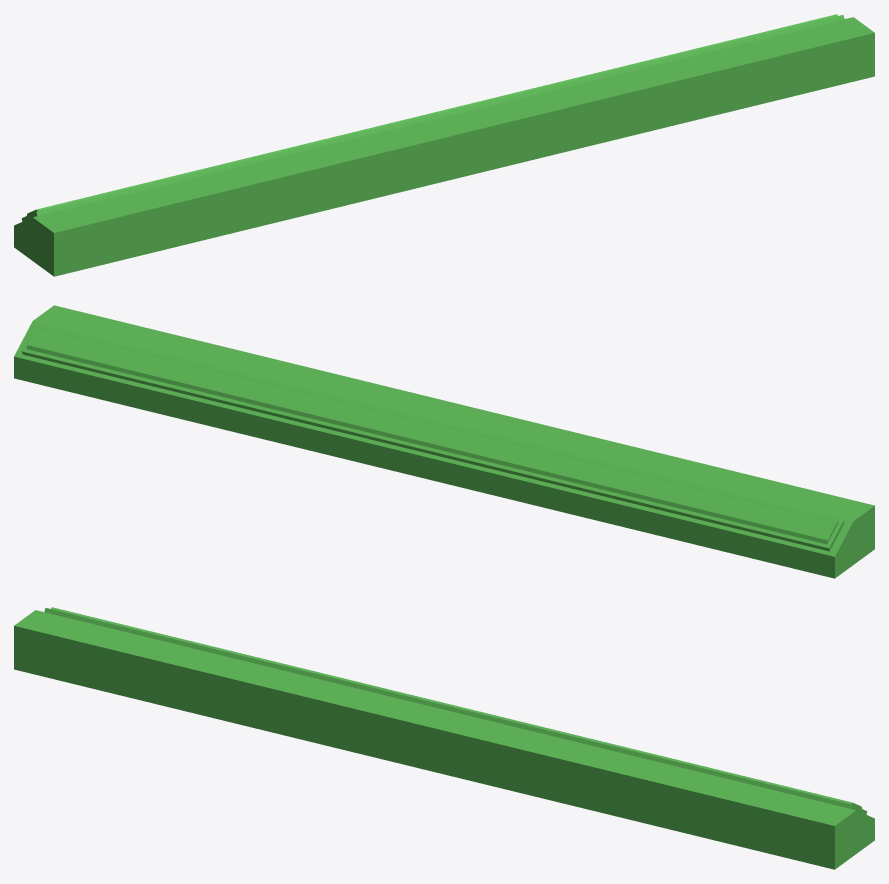
Rendered from zeminkenaruzun.fbx.
The picture shows the model from 3 angles, top to bottom: view 1: azimuth 30°, elevation 25°; view 2: azimuth 150°, elevation 25°; view 3: azimuth 330°, elevation 25°; orthographic projection.
Parts seen in each view (by area): view 1: Cube.014; view 2: Cube.014; view 3: Cube.014.
Part boxes in pixels (left/top/right/bottom): Cube.014: left=14, top=14, right=874, bottom=276; Cube.014: left=14, top=305, right=874, bottom=578; Cube.014: left=14, top=607, right=874, bottom=869.
Size of the model in its own units: 4569 by 242 by 387.
